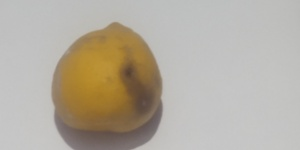BAD: (53, 23, 162, 131)
